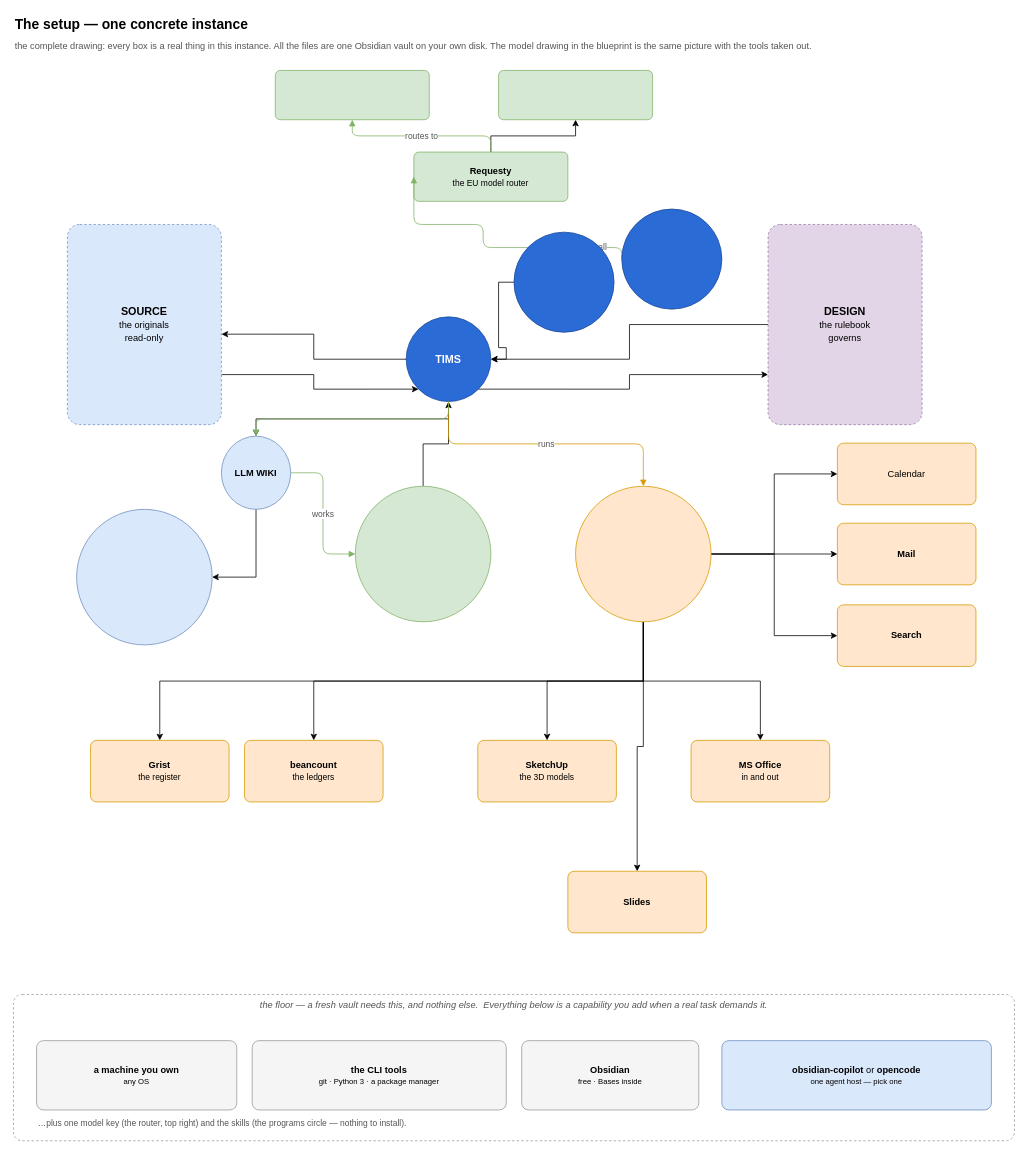
This 1028x1154 diagram has some shape labels left out. The box of each missing label's shape, as (x1, y1, x2, y2) in pixels:
COMPILED KNOWLEDGE what it knows — regeneratable: (76, 509, 212, 645)
DeepSeek V4.1 the model: (275, 70, 429, 120)
obsidian-copilot the agent host, in the editor: (513, 231, 614, 332)
opencode the agent host, in the terminal: (621, 208, 722, 309)
PROGRAMS what it runs: (575, 485, 711, 622)
Qwen 3.5 9B local · offline: (498, 70, 653, 120)
STRUCTURED DATA what it holds: (355, 485, 491, 622)
